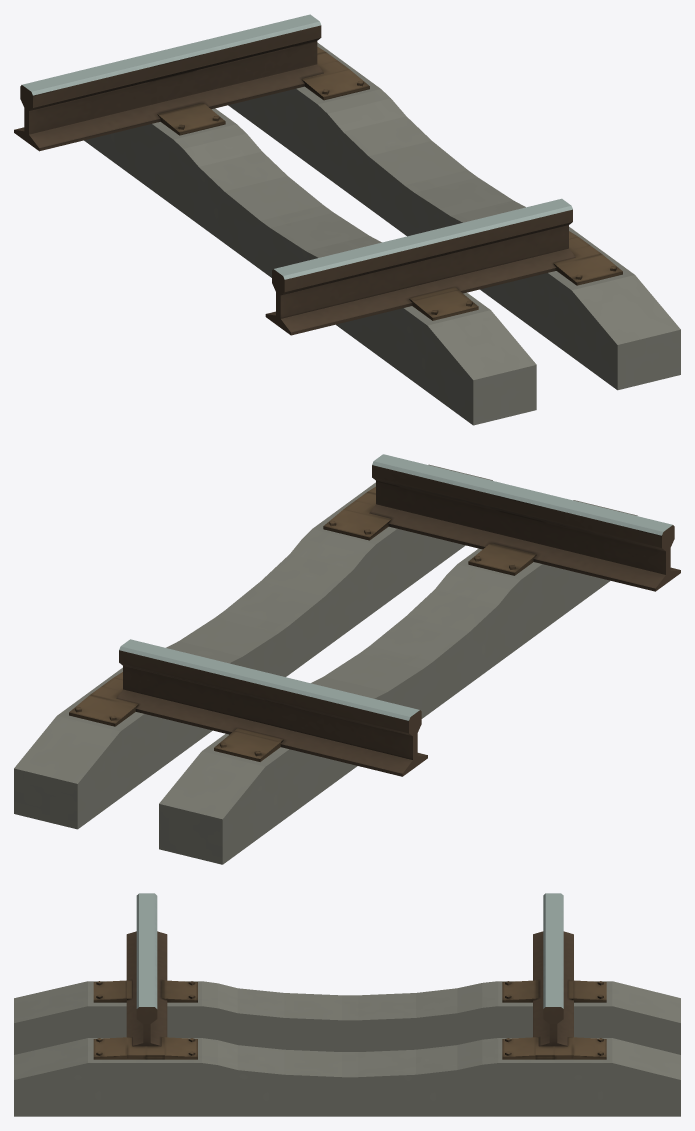
Rendered from spsf_tracks_concrete.obj.
3 views of the same model, one above another, from view 1: azimuth 30°, elevation 25°; view 2: azimuth 150°, elevation 25°; view 3: azimuth 270°, elevation 25° (orthographic). The views are drawn at different scales.
Parts seen in each view (by area): view 1: RAIL_BASE.006_Cube_Cube.004, RAIL_RIGHT_Cube.010, RAIL_LEFT_Cube.002, RAIL_BASE.005_Cube.003; view 2: RAIL_BASE.006_Cube_Cube.004, RAIL_LEFT_Cube.002, RAIL_RIGHT_Cube.010, RAIL_BASE.005_Cube.003; view 3: RAIL_BASE.006_Cube_Cube.004, RAIL_BASE.005_Cube.003, RAIL_LEFT_Cube.002, RAIL_RIGHT_Cube.010.
Part boxes in pixels (x1=…): RAIL_BASE.006_Cube_Cube.004: x1=84, y1=42, x2=680, y2=425; RAIL_RIGHT_Cube.010: x1=14, y1=14, x2=323, y2=151; RAIL_LEFT_Cube.002: x1=265, y1=198, x2=575, y2=335; RAIL_BASE.005_Cube.003: x1=157, y1=46, x2=622, y2=320; RAIL_BASE.006_Cube_Cube.004: x1=14, y1=464, x2=637, y2=864; RAIL_LEFT_Cube.002: x1=369, y1=454, x2=680, y2=591; RAIL_RIGHT_Cube.010: x1=116, y1=639, x2=427, y2=776; RAIL_BASE.005_Cube.003: x1=69, y1=486, x2=536, y2=761; RAIL_BASE.006_Cube_Cube.004: x1=14, y1=981, x2=680, y2=1116; RAIL_BASE.005_Cube.003: x1=93, y1=980, x2=606, y2=1059; RAIL_LEFT_Cube.002: x1=126, y1=893, x2=167, y2=1046; RAIL_RIGHT_Cube.010: x1=533, y1=893, x2=573, y2=1046.
Bounding box in the file's own units: 1.11 × 0.3983 × 2.48.
Materials: 2 (2 with a texture image).
